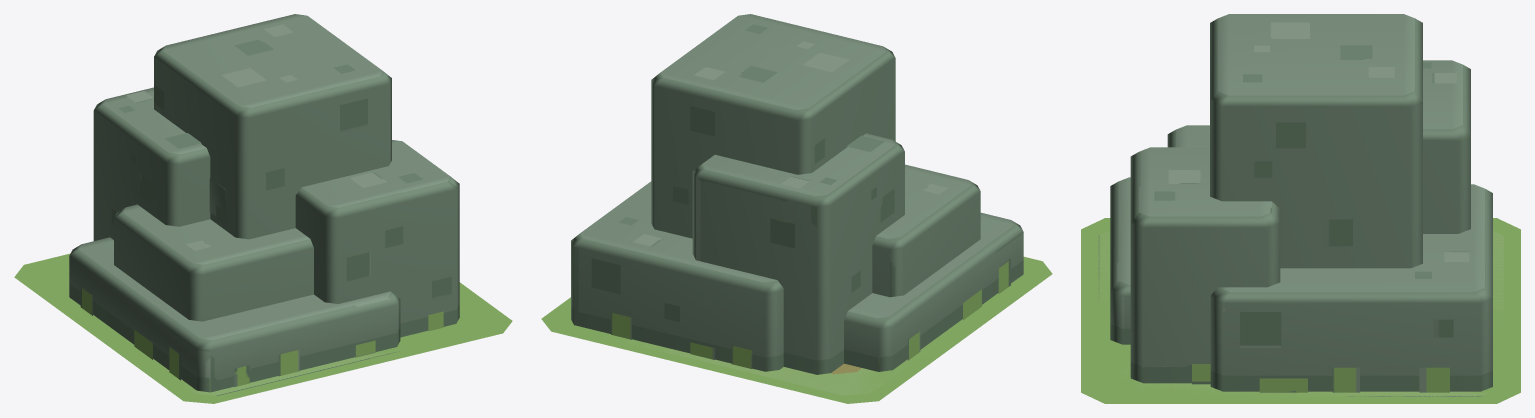
Rendered from B_grass1_rock02.fbx.
The picture shows the model from 3 angles, left to right: view 1: azimuth 30°, elevation 25°; view 2: azimuth 150°, elevation 25°; view 3: azimuth 270°, elevation 25°; orthographic projection. The views are drawn at different scales.
Parts seen in each view (by area): view 1: model 1, model, model06; view 2: model 1, model; view 3: model 1, model.
Boxes of the visible parts, x1,y1,x2,y2 form: model 1: [14, 14, 512, 403]; model: [156, 348, 407, 395]; model06: [209, 178, 226, 223]; model 1: [541, 14, 1052, 403]; model: [610, 337, 940, 395]; model 1: [1081, 14, 1520, 403]; model: [1098, 230, 1503, 396].
Bounding box in the file's own units: 4.49 × 3.02 × 4.49.
Materials: 1 (1 with a texture image).
